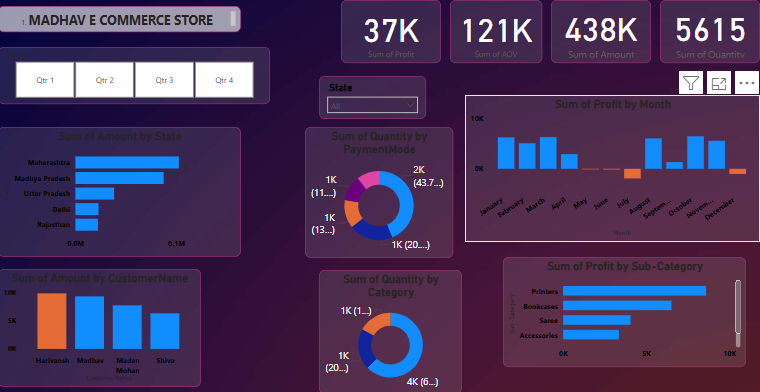

What the dashboard file says about the page in this screenshot:
{"tool":"powerbi","page":{"name":"Page 1","canvas":[1280,720],"ordinal":0},"visuals":[{"type":"textbox","box":[0,68.9,408.2,43.7],"z":0},{"type":"clusteredColumnChart","fields":{"Category":["Orders (1).Order Date.Variation.Date Hierarchy.Month"],"Y":["Details.Profit"]},"box":[784.5,218.4,495.5,246.9],"z":1000},{"type":"barChart","fields":{"Category":["Details.Sub-Category"],"Y":["Details.Profit"]},"box":[848.3,490.5,408.2,184.8],"z":2000},{"type":"donutChart","fields":{"Category":["Details.Category"],"Y":["Details.Quantity"]},"box":[438.4,512.3,341,208.3],"z":3000},{"type":"donutChart","fields":{"Category":["Details.PaymentMode"],"Y":["Details.Quantity"]},"box":[438.4,272.1,325.9,220.1],"z":4000},{"type":"card","fields":{"Values":["Details.Amount"]},"box":[928.9,58.8,168,105.8],"z":5000},{"type":"card","fields":{"Values":["Details.Quantity"]},"box":[1112,58.8,168,105.8],"z":6000},{"type":"card","fields":{"Values":["Details.Profit"]},"box":[576.2,58.8,168,105.8],"z":7000},{"type":"card","fields":{"Values":["Details.AOV"]},"box":[759.3,58.8,154.5,105.8],"z":8000},{"type":"barChart","fields":{"Category":["Orders (1).State"],"Y":["Details.Amount"]},"box":[0,272.1,408.2,218.4],"z":9000},{"type":"columnChart","fields":{"Category":["Orders (1).CustomerName"],"Y":["Details.Amount"]},"box":[0,510.7,341,198.2],"z":10000},{"type":"slicer","fields":{"Values":["Orders (1).Order Date.Variation.Date Hierarchy.Quarter"]},"box":[0,137.7,456.9,95.7],"z":11000},{"type":"slicer","fields":{"Values":["Orders (1).State"]},"box":[539.2,186.5,179.7,72.2],"z":12000}]}

Visuals, with their boxes on the page's 1280x720 design canvas (x1, y1, x2, y2). These are canvas units, not pixel positions in the 760x392 screenshot, which may show the page scaled, cropped or inside an application window:
textbox: (x1=0, y1=69, x2=408, y2=113)
clusteredColumnChart - Orders (1).Order Date.Variation.Date Hierarchy.Month x Details.Profit: (x1=784, y1=218, x2=1280, y2=465)
barChart - Details.Sub-Category x Details.Profit: (x1=848, y1=490, x2=1256, y2=675)
donutChart - Details.Category x Details.Quantity: (x1=438, y1=512, x2=779, y2=721)
donutChart - Details.PaymentMode x Details.Quantity: (x1=438, y1=272, x2=764, y2=492)
card - Details.Amount: (x1=929, y1=59, x2=1097, y2=165)
card - Details.Quantity: (x1=1112, y1=59, x2=1280, y2=165)
card - Details.Profit: (x1=576, y1=59, x2=744, y2=165)
card - Details.AOV: (x1=759, y1=59, x2=914, y2=165)
barChart - Orders (1).State x Details.Amount: (x1=0, y1=272, x2=408, y2=490)
columnChart - Orders (1).CustomerName x Details.Amount: (x1=0, y1=511, x2=341, y2=709)
slicer - Orders (1).Order Date.Variation.Date Hierarchy.Quarter: (x1=0, y1=138, x2=457, y2=233)
slicer - Orders (1).State: (x1=539, y1=186, x2=719, y2=259)
